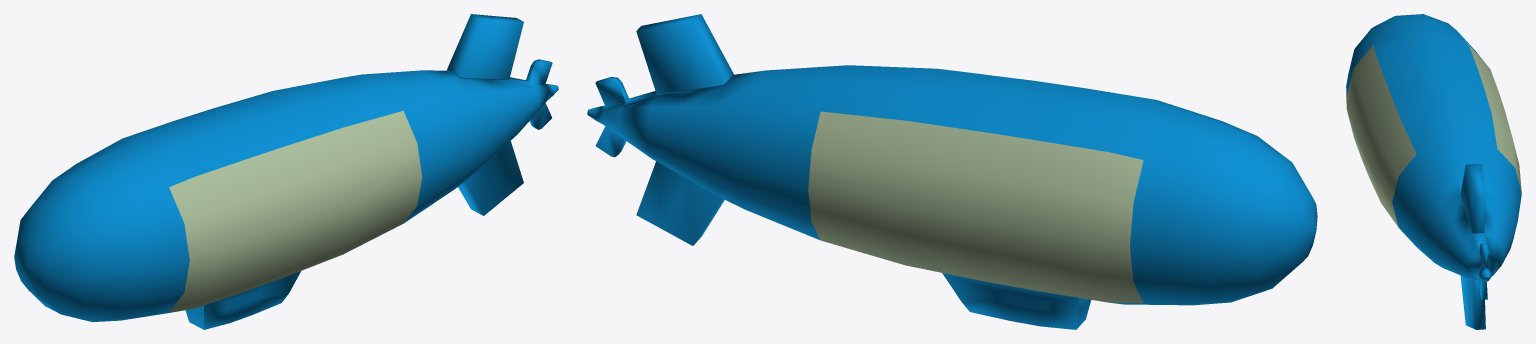
Rendered from blimp.glb.
3 views of the same model, side by side, from view 1: azimuth 30°, elevation 25°; view 2: azimuth 150°, elevation 25°; view 3: azimuth 270°, elevation 25° (orthographic). The views are drawn at different scales.
Parts seen in each view (by area): view 1: Object_2, Object_3; view 2: Object_2, Object_3; view 3: Object_2, Object_3.
Boxes of the visible parts, x1,y1,x2,y2 form: Object_2: (14,14,558,329); Object_3: (169,110,422,312); Object_2: (587,14,1317,329); Object_3: (808,111,1143,303); Object_2: (1346,14,1521,329); Object_3: (1346,40,1521,226).
Size of the model in its own units: 22.41 by 7.88 by 7.09.
